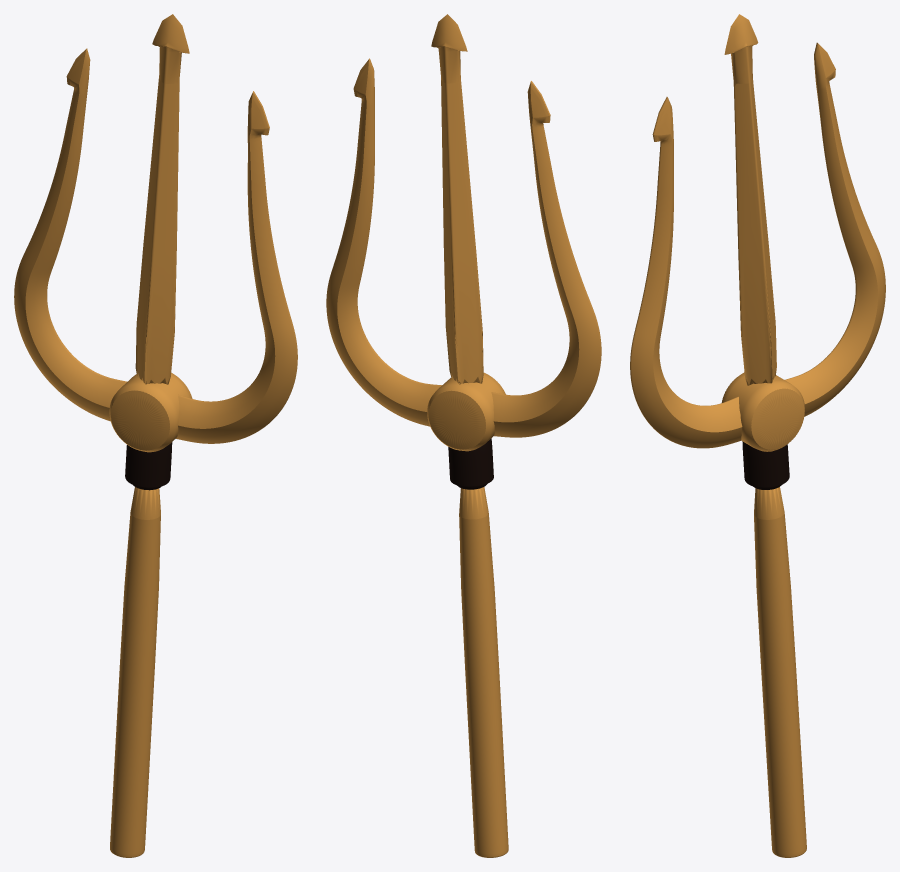
3 renders of one model, left to right at view 1: azimuth 30°, elevation 25°; view 2: azimuth 210°, elevation 25°; view 3: azimuth 270°, elevation 25°, orthographic. The views are drawn at different scales.
Parts seen in each view (by area): view 1: Cube, Cylinder_2, Cube_1, Cylinder, Cylinder_1; view 2: Cube, Cylinder_2, Cube_1, Cylinder, Cylinder_1; view 3: Cube, Cylinder_2, Cube_1, Cylinder, Cylinder_1.
Part boxes in pixels (x1,y1,x2,y2): Cube: (14,48,297,443); Cylinder_2: (110,487,160,857); Cube_1: (135,14,189,384); Cylinder: (109,373,192,452); Cylinder_1: (125,442,172,490); Cube: (326,58,601,437); Cylinder_2: (459,487,508,857); Cube_1: (431,14,483,384); Cylinder: (427,372,505,451); Cylinder_1: (448,438,493,489); Cube: (630,42,885,448); Cylinder_2: (754,487,806,857); Cube_1: (724,14,776,385); Cylinder: (721,372,804,451); Cylinder_1: (742,441,789,489).
Size of the model in its own units: 27.7 by 38.56 by 141.
